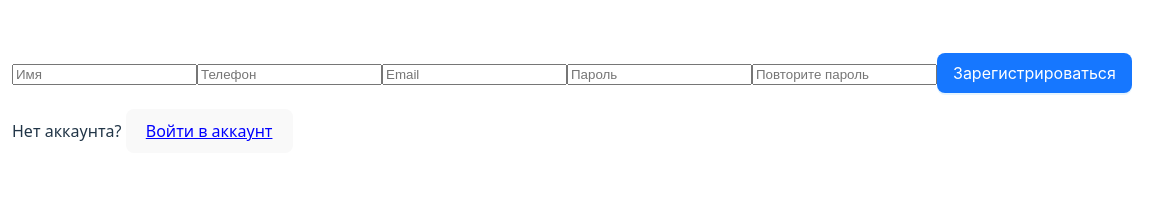
Test: RegisterForm › отображает ошибку, если API.post выбрасывает ошибку
The width and height of the screenshot is (1149, 198).
Type "Тест" into the field with placeholder "Имя" at (104, 75), box [12,64,197,85]
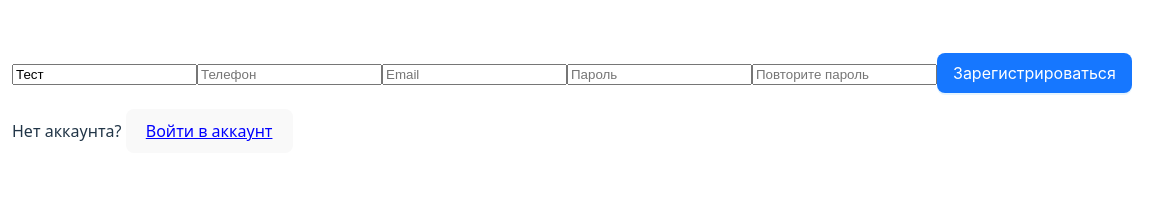
Type "+79990001122" into the field with placeholder "Телефон" at (290, 75), box [197,64,382,85]
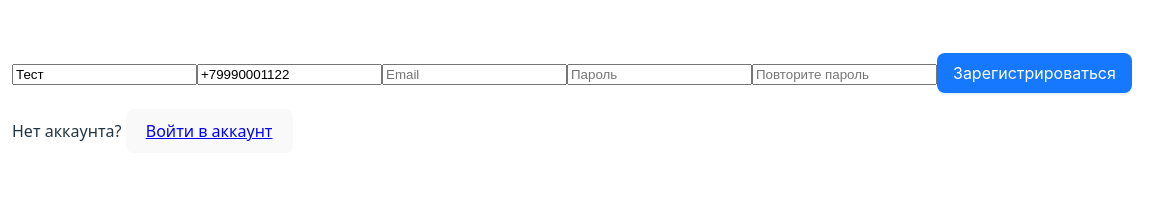
Type "test@example.com" into the field with placeholder "Email" at (474, 75), box [382,64,567,85]
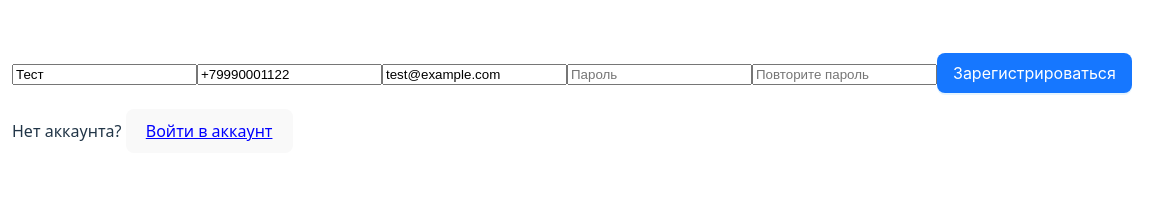
Type "123456" into the password field with placeholder "Пароль" at (660, 75), box [567,64,752,85]
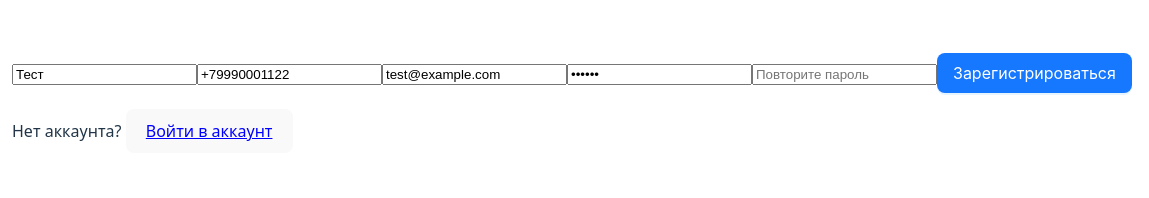
Type "123456" into the password field with placeholder "Повторите пароль" at (844, 75), box [752,64,937,85]
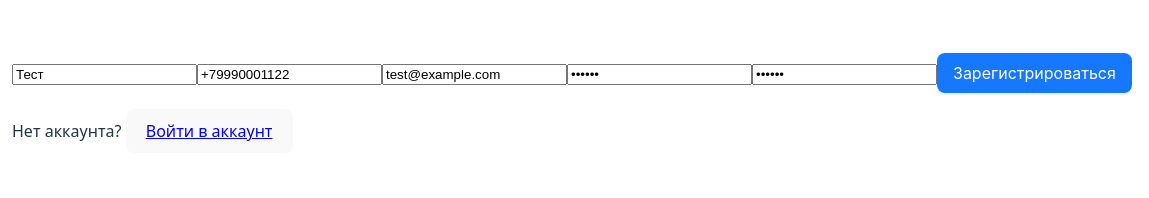
Submit the form "Зарегистрироваться", box [12,53,1132,93]
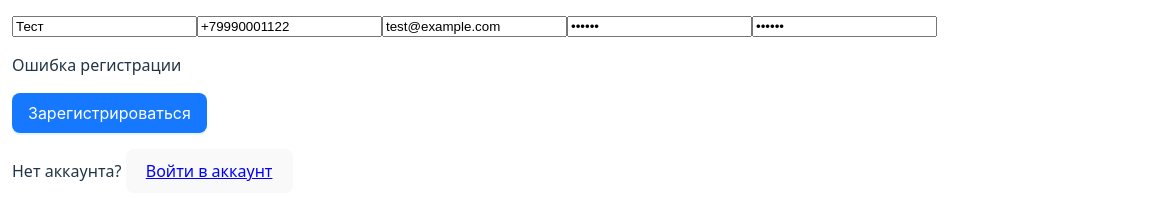
Expected: the text "Ошибка регистрации" is shown, [12,54,181,76]
